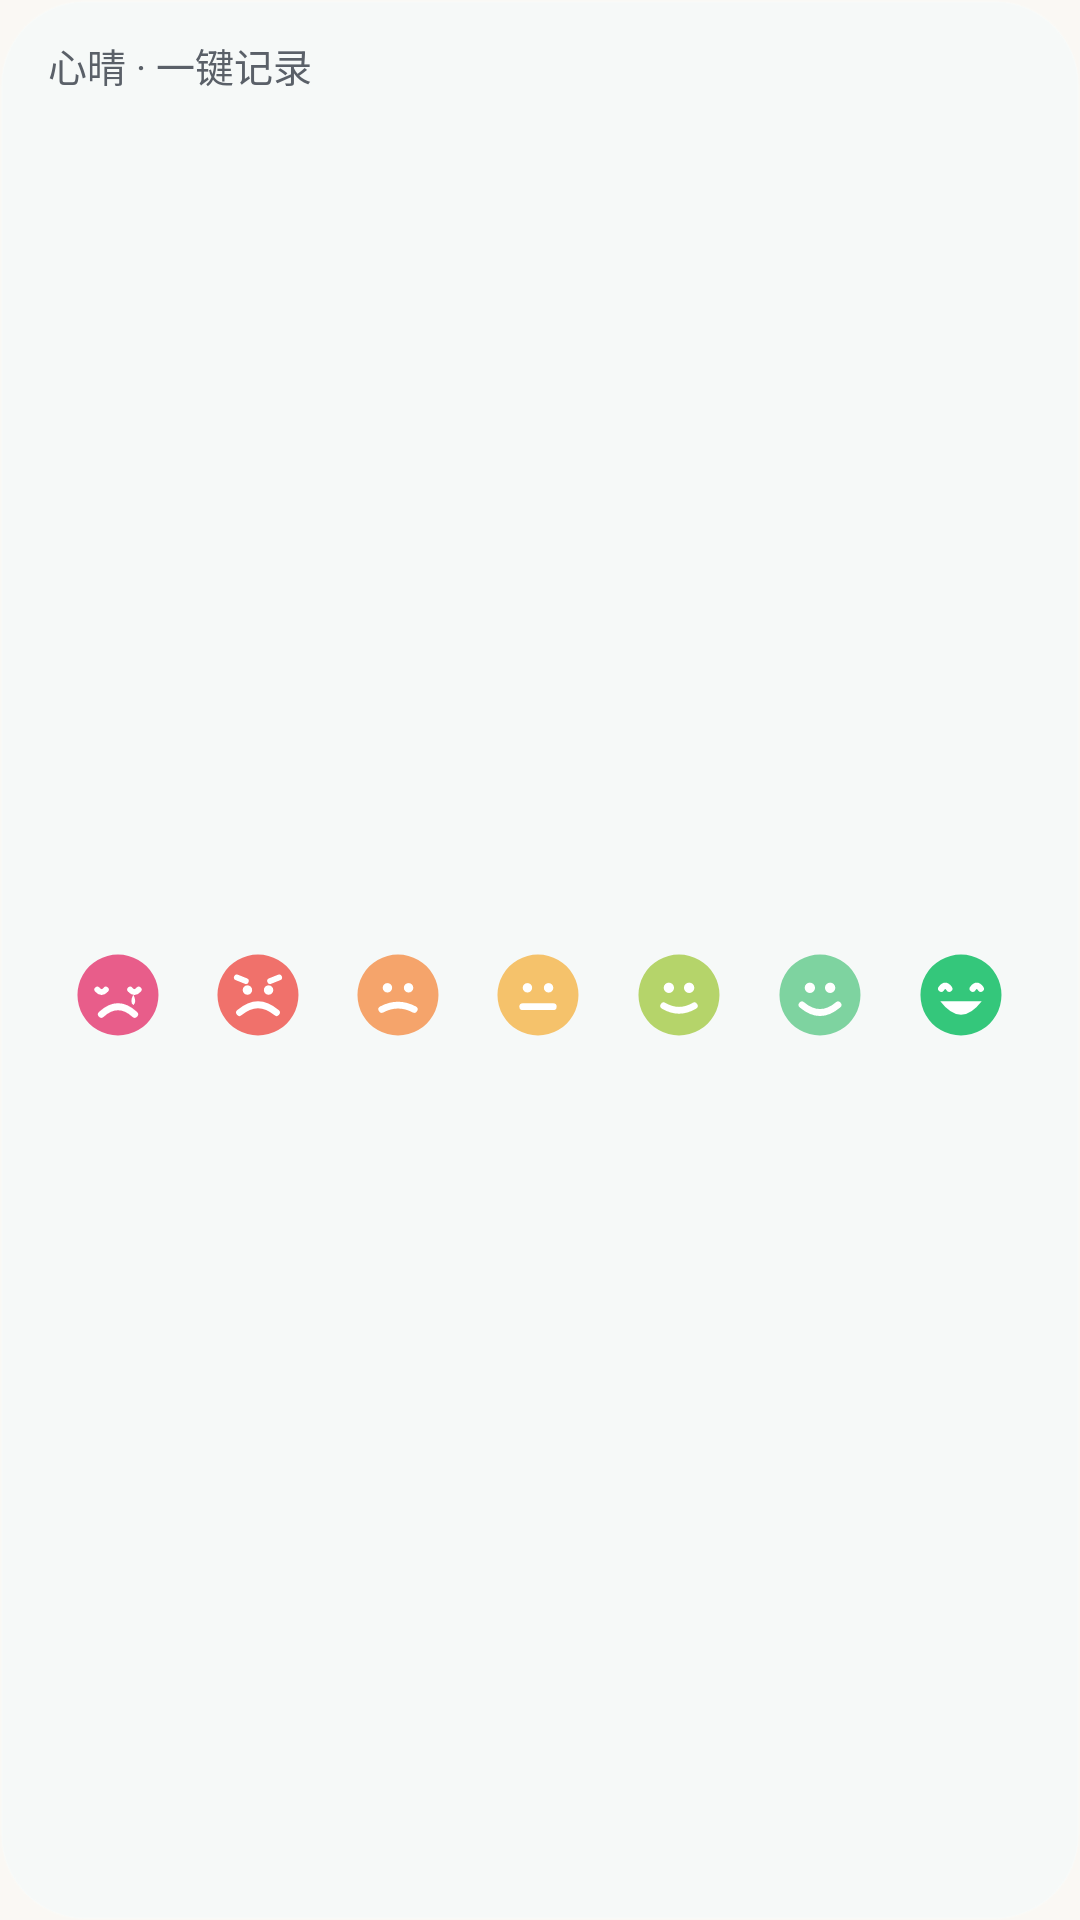

Named icons in this screenshot (1080x1920) and their bounding boxes, detection(x1, y1, x2, y2):
mood: detection(77, 954, 159, 1036), detection(217, 954, 299, 1036), detection(357, 954, 439, 1036), detection(497, 954, 579, 1036), detection(638, 954, 720, 1036), detection(779, 954, 861, 1036), detection(920, 954, 1002, 1036)
